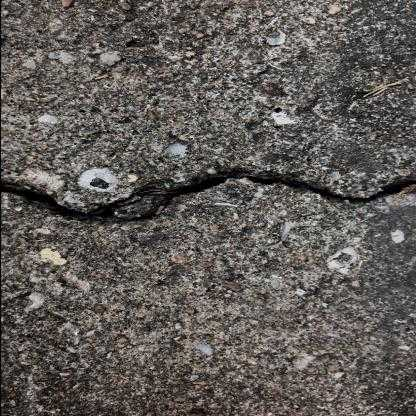crack: (0, 173, 416, 224)
